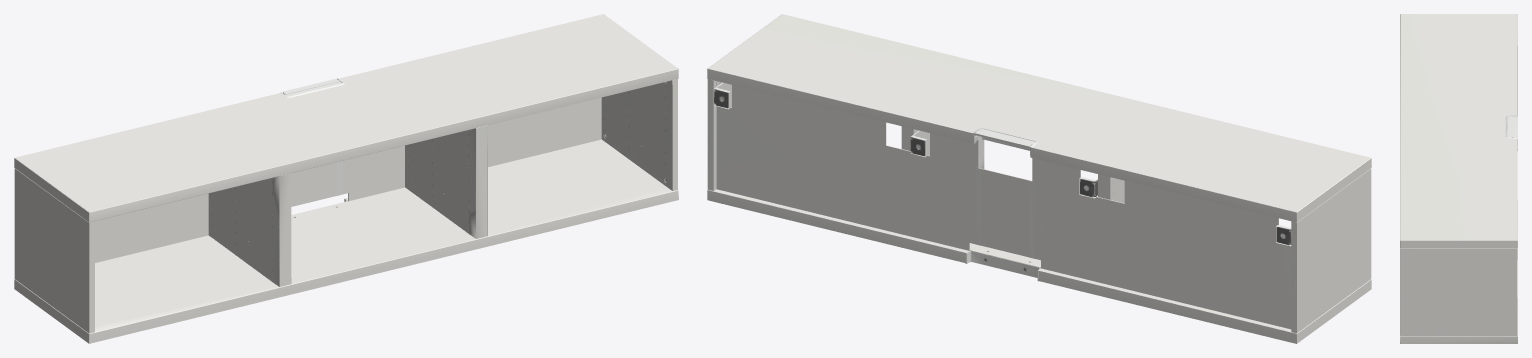
The model's file is 07 - BESTÅ TV bench - white 180x40x38 cm.glb.
The picture shows the model from 3 angles, left to right: view 1: azimuth 30°, elevation 25°; view 2: azimuth 150°, elevation 25°; view 3: azimuth 270°, elevation 25°; orthographic projection. The views are drawn at different scales.
Visible parts, largest first — view 1: Mesh_0; view 2: Mesh_0; view 3: Mesh_0.
Part boxes in pixels (box(x1,y1,x2,y2)): Mesh_0: box(14, 14, 678, 343); Mesh_0: box(707, 14, 1371, 343); Mesh_0: box(1400, 14, 1517, 343).
Bounding box in the file's own units: 1.8 × 0.3878 × 0.396.
1 material, 1 textured.
